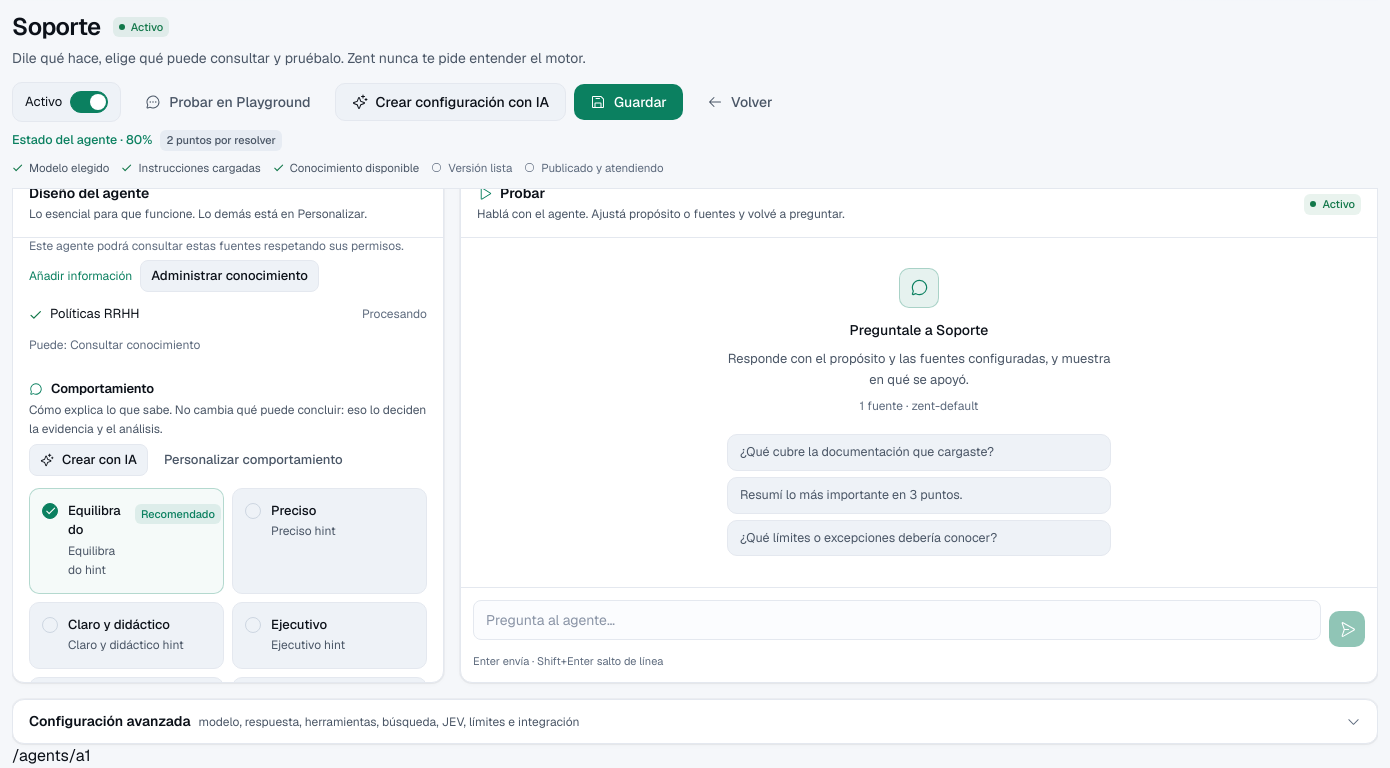
it: AgentStudio · comportamiento › el preview usa el perfil temporal y muestra solicitado → aplicado
(page scrolled)
Step 1. Click the button "Personalizar comportamiento" → (253, 460), box [154, 444, 353, 476]
(page scrolled)
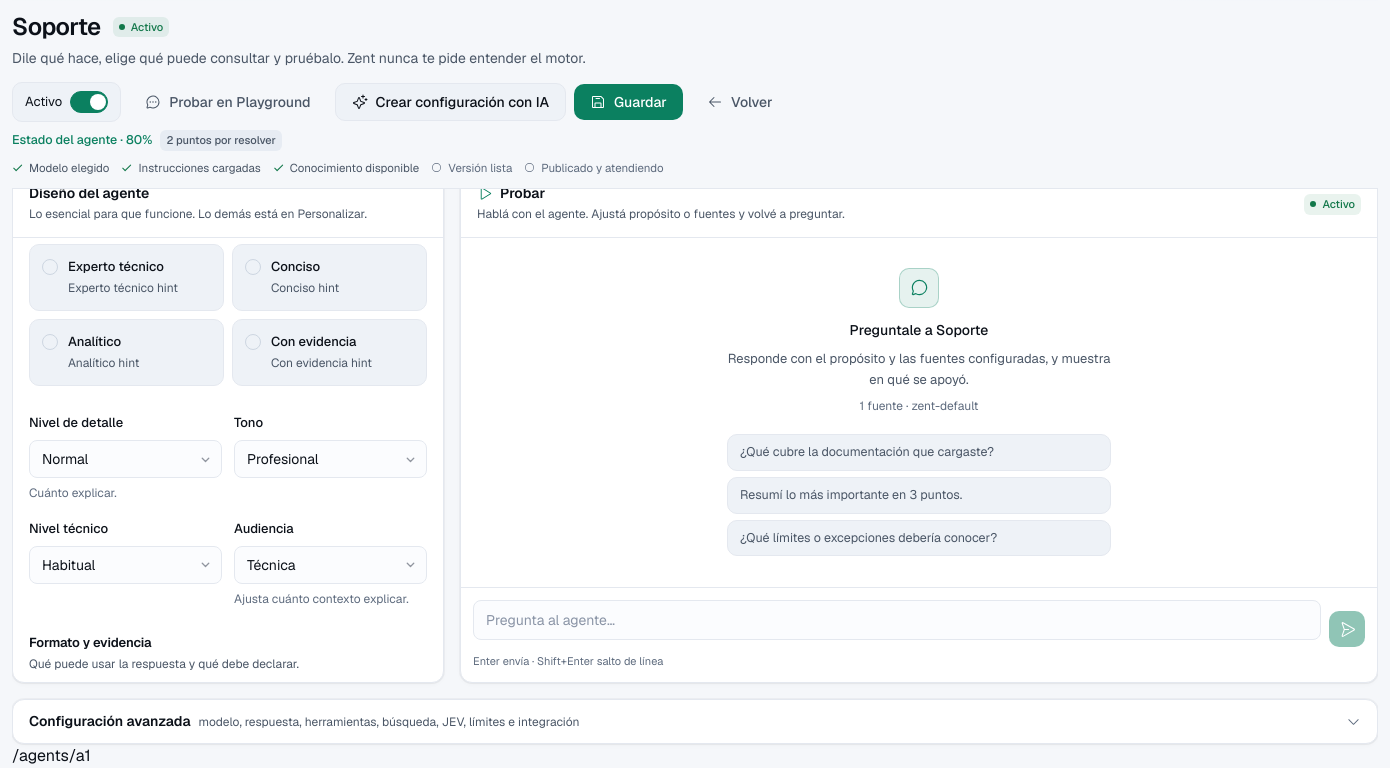
Step 2. Select "Didáctico" in the dropdown labelled "Tono" → (330, 459), box [234, 440, 427, 478]
(page scrolled)
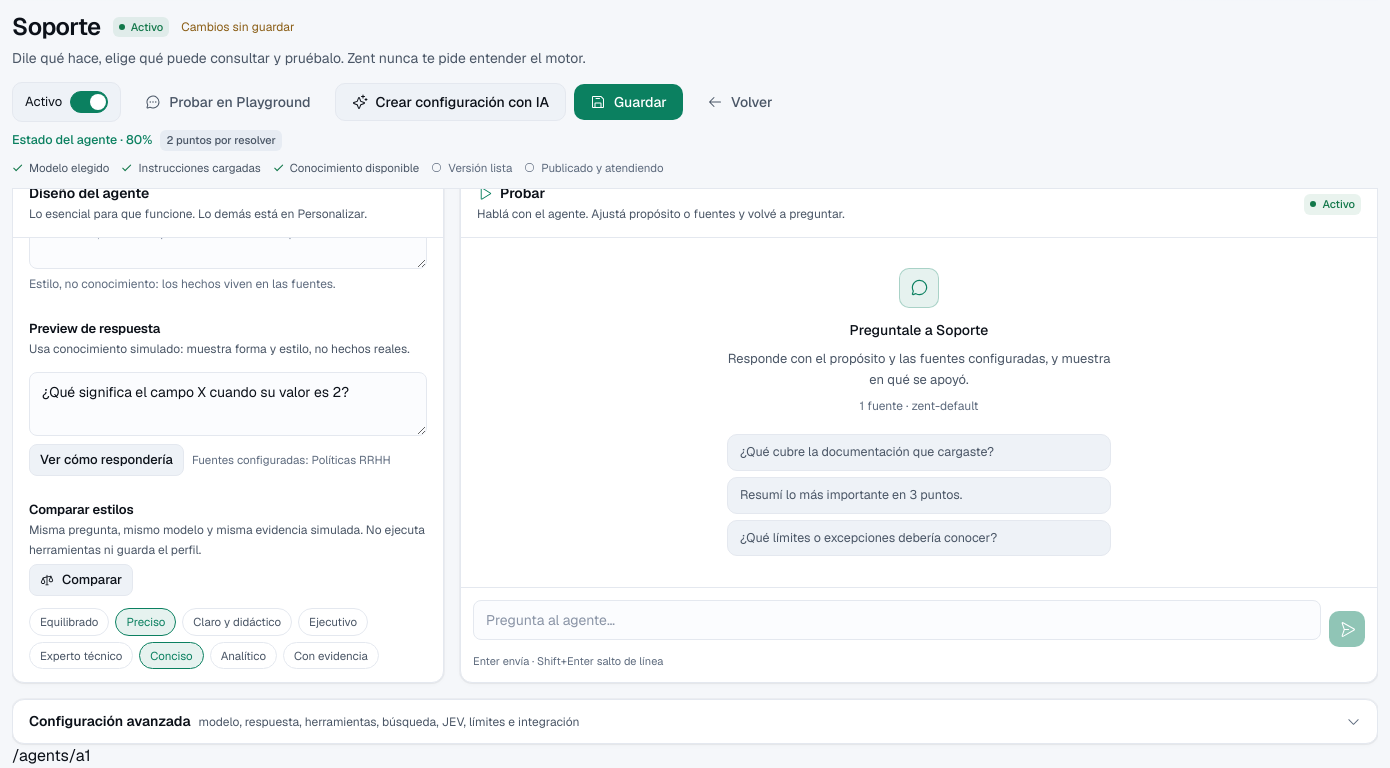
Step 3. Click the button "Ver cómo respondería" → (106, 460), box [29, 444, 184, 476]
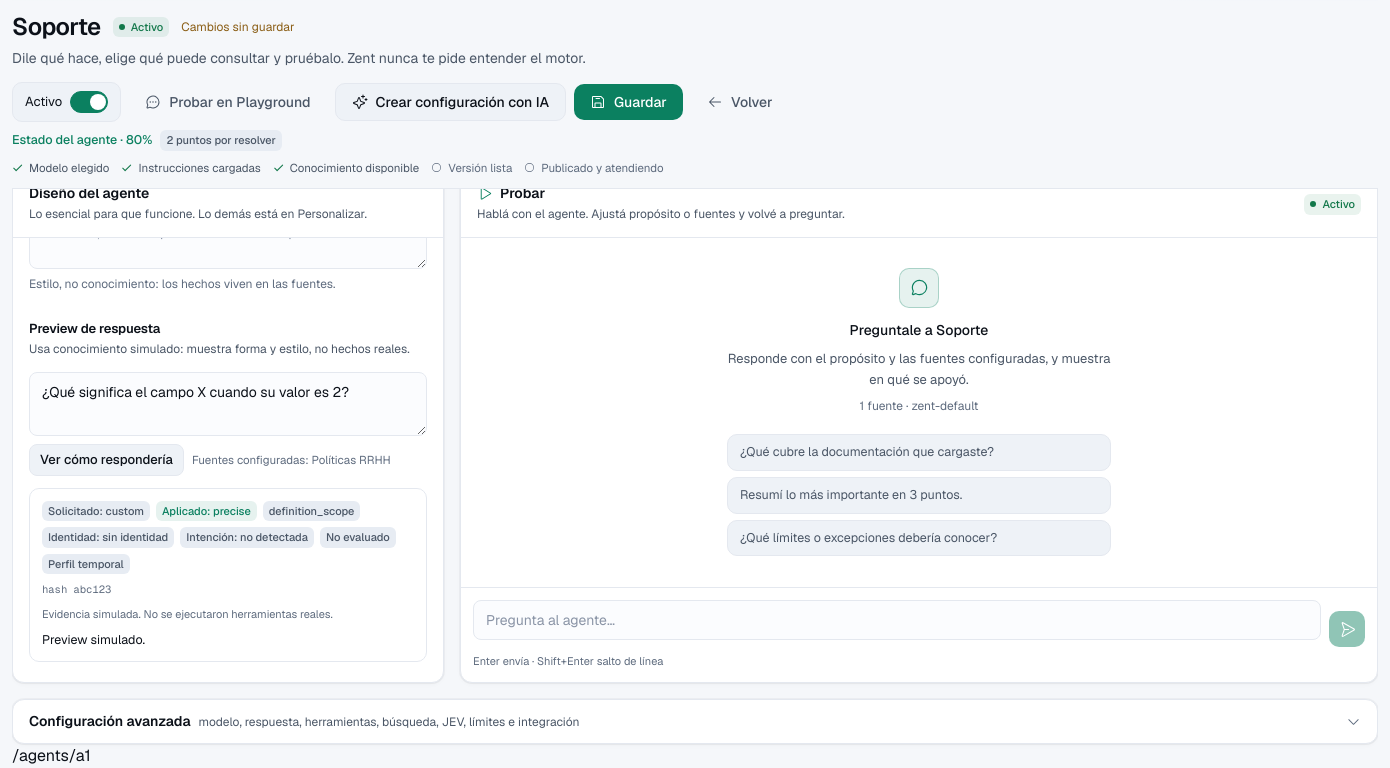
Expected: the text "Preview simulado." is shown, [42, 630, 145, 648]
Expected: the text "Solicitado: custom" is shown, [42, 501, 150, 521]
Expected: the text "Aplicado: precise" is shown, [156, 501, 257, 521]
